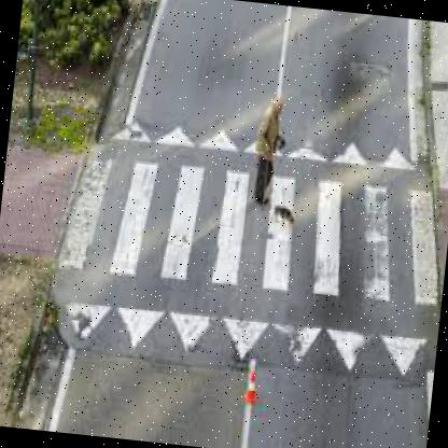silver: (251, 93, 293, 211)
